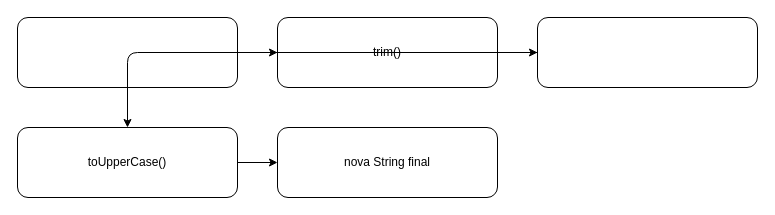
Image size: 775x215. Some labels were removed from this diagram. The centre of each missing label's shape, as x and y in pixels:
"nova String" goes at (x=647, y=52).
"String original" goes at (x=127, y=52).
